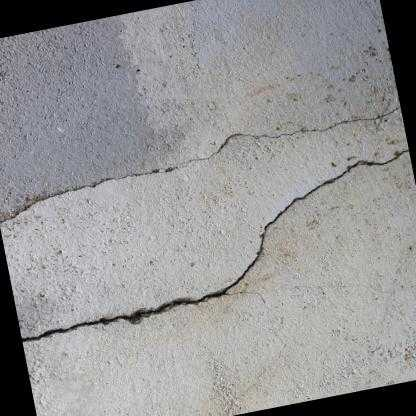crack: (21, 149, 409, 340), (189, 105, 400, 160)
